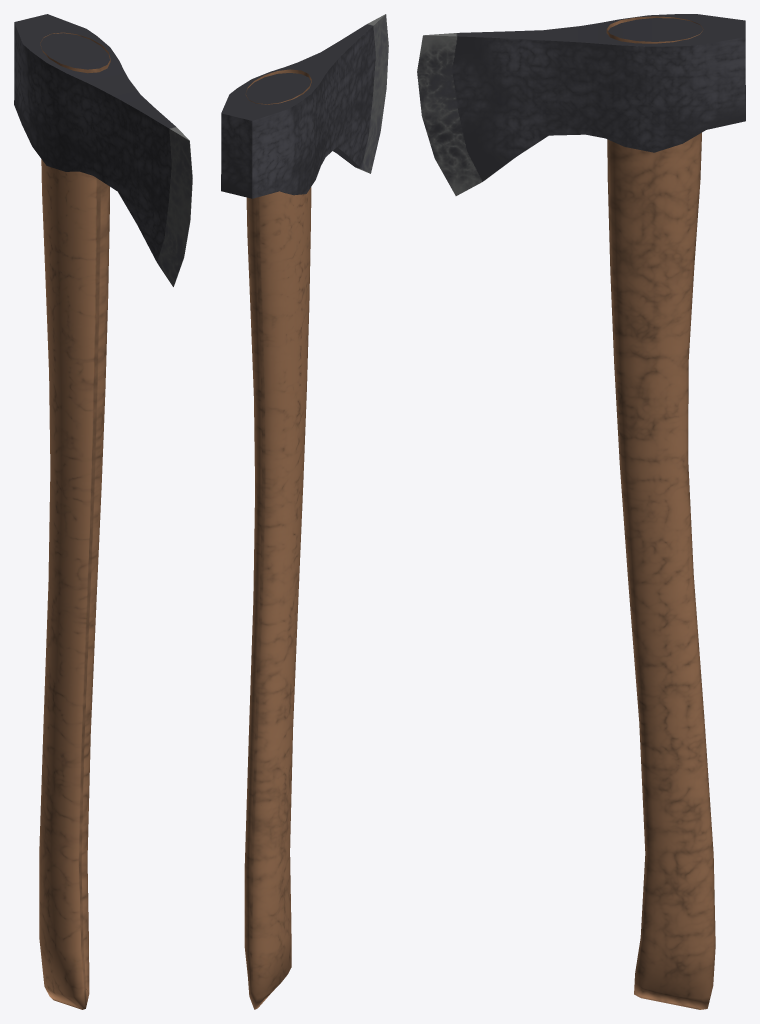
Rendered from Machado.fbx.
3 renders of one model, left to right at view 1: azimuth 30°, elevation 25°; view 2: azimuth 150°, elevation 25°; view 3: azimuth 270°, elevation 25°, orthographic. The views are drawn at different scales.
Parts seen in each view (by area): view 1: Cabo, Lamina; view 2: Cabo, Lamina; view 3: Cabo, Lamina.
Part boxes in pixels (box(x1,y1,x2,y2)): Cabo: box(39, 32, 110, 1009); Lamina: box(14, 14, 192, 286); Cabo: box(244, 69, 311, 1009); Lamina: box(221, 14, 388, 198); Cabo: box(606, 16, 715, 1009); Lamina: box(417, 14, 745, 195).
Size of the model in its own units: 52.34 by 740 by 225.
